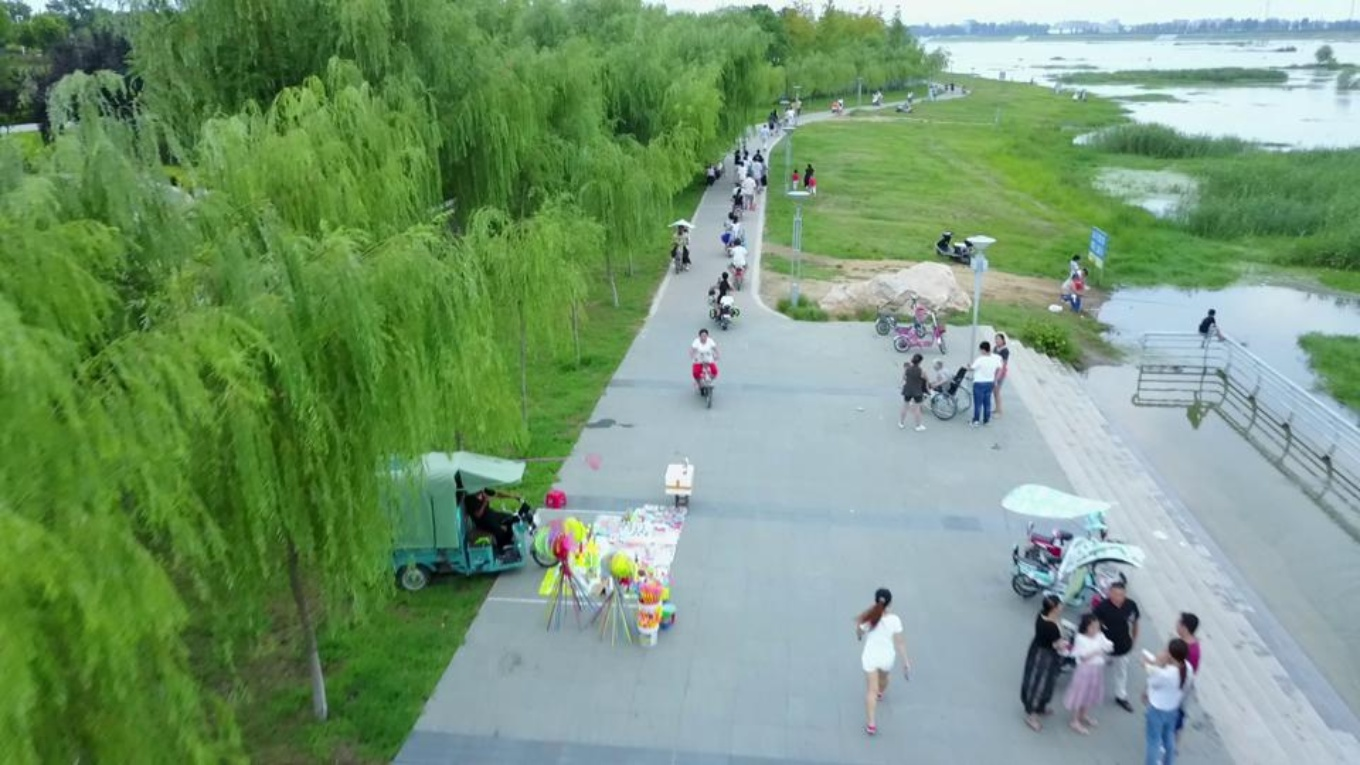awning-tricycle: (363, 451, 560, 587)
bicycle: (894, 310, 948, 354), (773, 121, 781, 138)
ignored regions: (783, 53, 1100, 140)
motor: (1003, 542, 1142, 604), (1020, 515, 1120, 564), (876, 291, 926, 335), (692, 355, 720, 407), (933, 229, 974, 264), (705, 287, 739, 318), (712, 281, 729, 329), (671, 237, 688, 273), (730, 249, 744, 288), (723, 223, 736, 257), (729, 196, 743, 219), (715, 160, 723, 174), (740, 137, 746, 148)
others: (923, 365, 968, 419)
pedestrian: (855, 587, 907, 732), (1084, 580, 1137, 712), (1138, 637, 1192, 763), (1018, 593, 1062, 729), (1064, 613, 1110, 732), (1162, 610, 1199, 754), (962, 338, 1001, 429), (897, 351, 928, 431), (991, 331, 1008, 416), (741, 171, 756, 210), (1067, 253, 1081, 288), (757, 155, 767, 189), (802, 162, 814, 189), (750, 155, 758, 192), (758, 123, 768, 151), (767, 111, 777, 137), (740, 148, 750, 171), (807, 174, 817, 196), (732, 150, 739, 181), (705, 161, 713, 188), (736, 161, 744, 186), (790, 168, 798, 189), (740, 155, 747, 179), (753, 148, 761, 169), (771, 107, 778, 127), (733, 130, 740, 150)
people: (455, 477, 523, 556), (691, 327, 717, 392), (924, 355, 951, 403), (1139, 644, 1168, 688), (1197, 307, 1226, 349), (712, 270, 733, 321), (726, 237, 747, 281), (671, 223, 688, 270), (1059, 273, 1080, 311), (720, 210, 739, 246), (900, 361, 926, 385), (716, 288, 732, 317), (730, 182, 744, 208), (729, 215, 741, 244), (730, 188, 741, 212), (678, 229, 686, 259), (1076, 267, 1087, 288), (674, 233, 681, 260), (716, 152, 724, 175)
